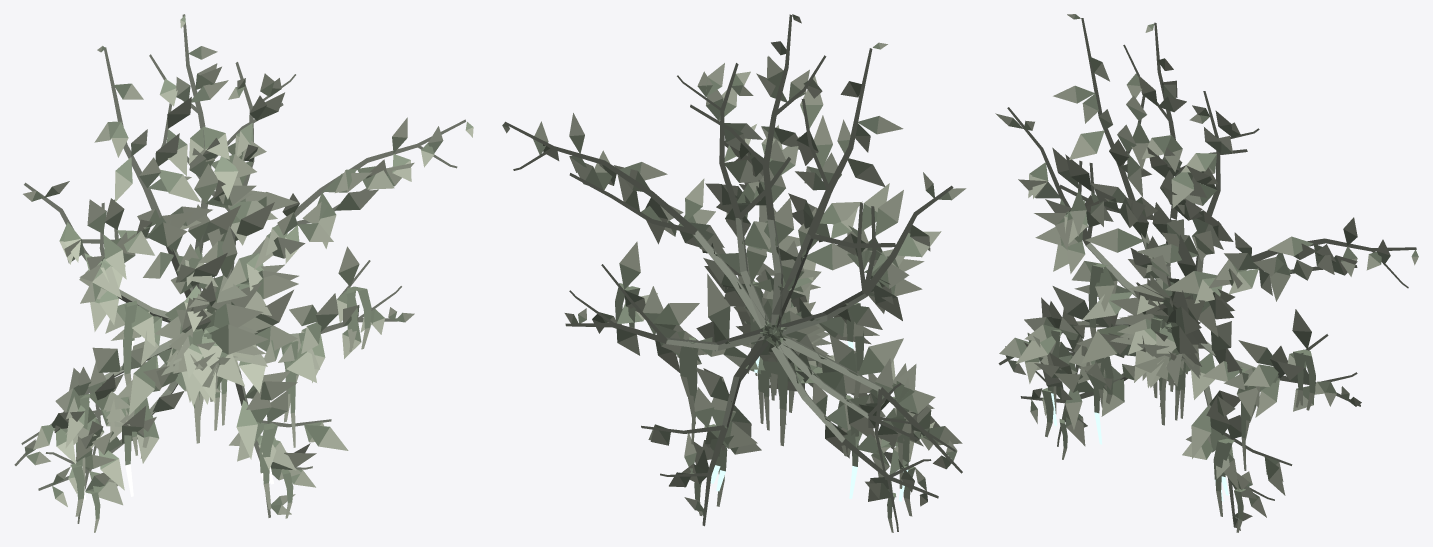
The model's file is plant_t1_flat_a.fbx.
3 renders of one model, left to right at view 1: azimuth 30°, elevation 25°; view 2: azimuth 150°, elevation 25°; view 3: azimuth 330°, elevation 25°, orthographic. The views are drawn at different scales.
Visible parts, largest first — view 1: plant_t1_flat_a; view 2: plant_t1_flat_a; view 3: plant_t1_flat_a.
Boxes of the visible parts, <box> form: plant_t1_flat_a: <box>14,14,473,532</box>; plant_t1_flat_a: <box>502,14,966,532</box>; plant_t1_flat_a: <box>995,14,1418,532</box>.
Size of the model in its own units: 36.48 by 40.05 by 2.88.
